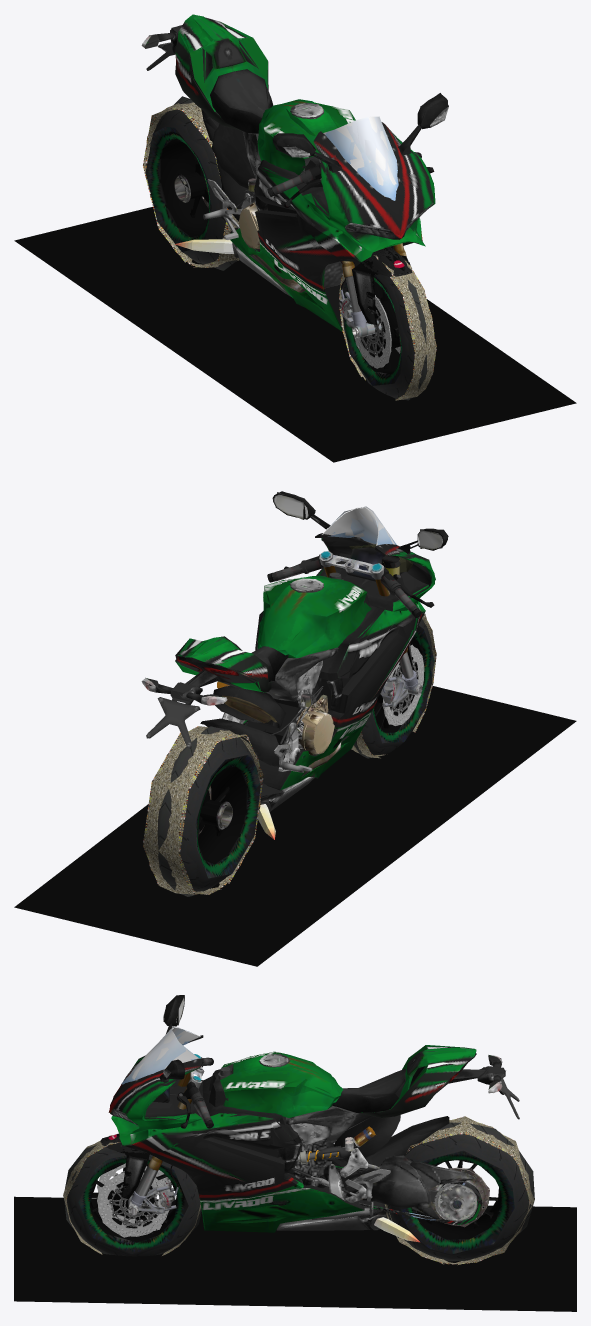
File: Feyado 2015 Pelaautuxu 1000 S Green.fbx
The picture shows the model from 3 angles, top to bottom: view 1: azimuth 30°, elevation 25°; view 2: azimuth 150°, elevation 25°; view 3: azimuth 270°, elevation 25°; orthographic projection. The views are drawn at different scales.
Parts seen in each view (by area): view 1: Motorbike_Shadow, Body__LOD2_, Body, Body__LOD1_, Rear_Wheel__LOD2_, Front_Wheel__LOD2_, Front_Fork, Front_Wheel_Dirt__LOD2_, Front_Wheel, Front_Fork__LOD2_, Rear_Tire__LOD2_, Front_Tire__LOD2_ (+10 smaller); view 2: Motorbike_Shadow, Body__LOD2_, Body, Body__LOD1_, Rear_Wheel__LOD2_, Rear_Wheel_Dirt__LOD2_, Rear_Tire__LOD2_, Rear_Wheel_Dirt, Front_Wheel__LOD2_, Handle, Front_Wheel, Handle__LOD1_ (+9 smaller); view 3: Motorbike_Shadow, Body__LOD2_, Body, Body__LOD1_, Rear_Wheel__LOD2_, Front_Wheel__LOD2_, Swing_Arm__LOD1_, Front_Wheel, Rear_Tire__LOD2_, Swing_Arm, Swing_Arm__LOD2_, Rear_Tire__LOD1_ (+19 smaller).
Part boxes in pixels (x1,y1,x2,y2): Motorbike_Shadow: (14, 207, 576, 462); Body__LOD2_: (145, 14, 448, 331); Body: (144, 15, 447, 330); Body__LOD1_: (141, 16, 447, 328); Rear_Wheel__LOD2_: (145, 126, 211, 251); Front_Wheel__LOD2_: (342, 275, 402, 385); Front_Fork: (338, 243, 408, 337); Front_Wheel_Dirt__LOD2_: (339, 255, 436, 400); Front_Wheel: (352, 282, 401, 374); Front_Fork__LOD2_: (339, 243, 412, 337); Rear_Tire__LOD2_: (153, 96, 237, 270); Front_Tire__LOD2_: (355, 266, 427, 400); Motorbike_Shadow: (14, 686, 576, 966); Body__LOD2_: (145, 492, 448, 789); Body: (143, 492, 447, 788); Body__LOD1_: (141, 491, 447, 790); Rear_Wheel__LOD2_: (195, 754, 260, 878); Rear_Wheel_Dirt__LOD2_: (143, 730, 263, 894); Rear_Tire__LOD2_: (157, 726, 249, 896); Rear_Wheel_Dirt: (146, 728, 260, 894); Front_Wheel__LOD2_: (372, 625, 434, 743); Handle: (267, 551, 433, 617); Front_Wheel: (374, 638, 425, 733); Handle__LOD1_: (267, 551, 432, 617); Motorbike_Shadow: (14, 1196, 576, 1311); Body__LOD2_: (108, 995, 515, 1232); Body: (109, 995, 519, 1230); Body__LOD1_: (110, 995, 519, 1230); Rear_Wheel__LOD2_: (401, 1150, 514, 1254); Front_Wheel__LOD2_: (78, 1155, 188, 1253); Swing_Arm__LOD1_: (335, 1116, 481, 1224); Front_Wheel: (88, 1163, 178, 1244); Rear_Tire__LOD2_: (383, 1122, 534, 1256); Swing_Arm: (335, 1116, 481, 1224); Swing_Arm__LOD2_: (347, 1116, 481, 1221); Rear_Tire__LOD1_: (388, 1134, 528, 1261).
Bounding box in the file's own units: 110 × 114 × 250.
